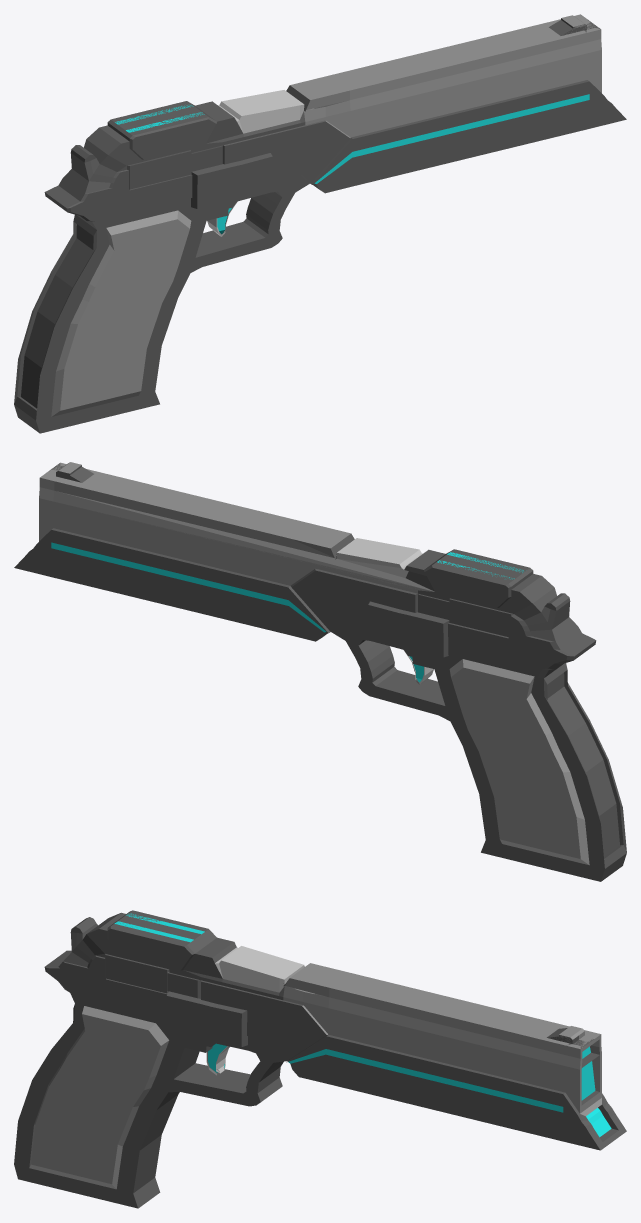
The model's file is Cybergun.fbx.
3 views of the same model, one above another, from view 1: azimuth 30°, elevation 25°; view 2: azimuth 150°, elevation 25°; view 3: azimuth 330°, elevation 25° (orthographic).
Parts seen in each view (by area): view 1: Cube; view 2: Cube; view 3: Cube.
Part boxes in pixels (x1,y1,x2,y2): Cube: (14,14,626,433); Cube: (14,462,626,881); Cube: (14,910,626,1208).
Bounding box in the file's own units: 610 × 273 × 55.53.
